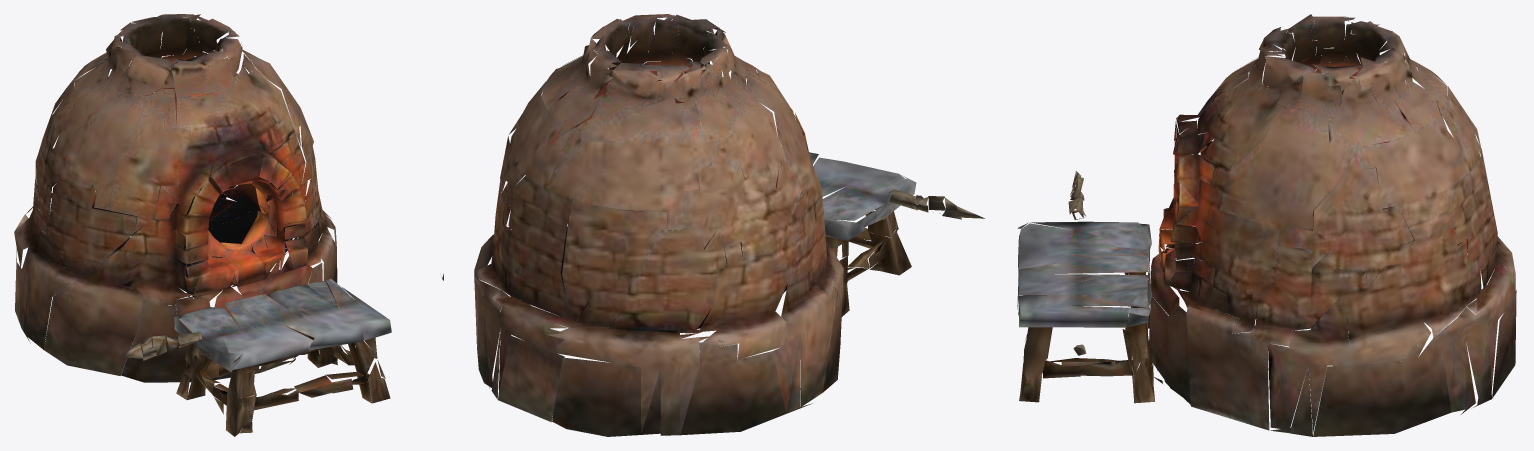
The model's file is glass.glb.
3 views of the same model, side by side, from view 1: azimuth 30°, elevation 25°; view 2: azimuth 150°, elevation 25°; view 3: azimuth 270°, elevation 25° (orthographic). The views are drawn at different scales.
Visible parts, largest first — view 1: Prop_glass_meshy; view 2: Prop_glass_meshy; view 3: Prop_glass_meshy.
Part boxes in pixels (x1,y1,x2,y2): Prop_glass_meshy: (14,14,443,436); Prop_glass_meshy: (474,14,984,436); Prop_glass_meshy: (1017,14,1516,436).
Bounding box in the file's own units: 1.71 × 1.44 × 2.01.
1 material, 1 textured.
